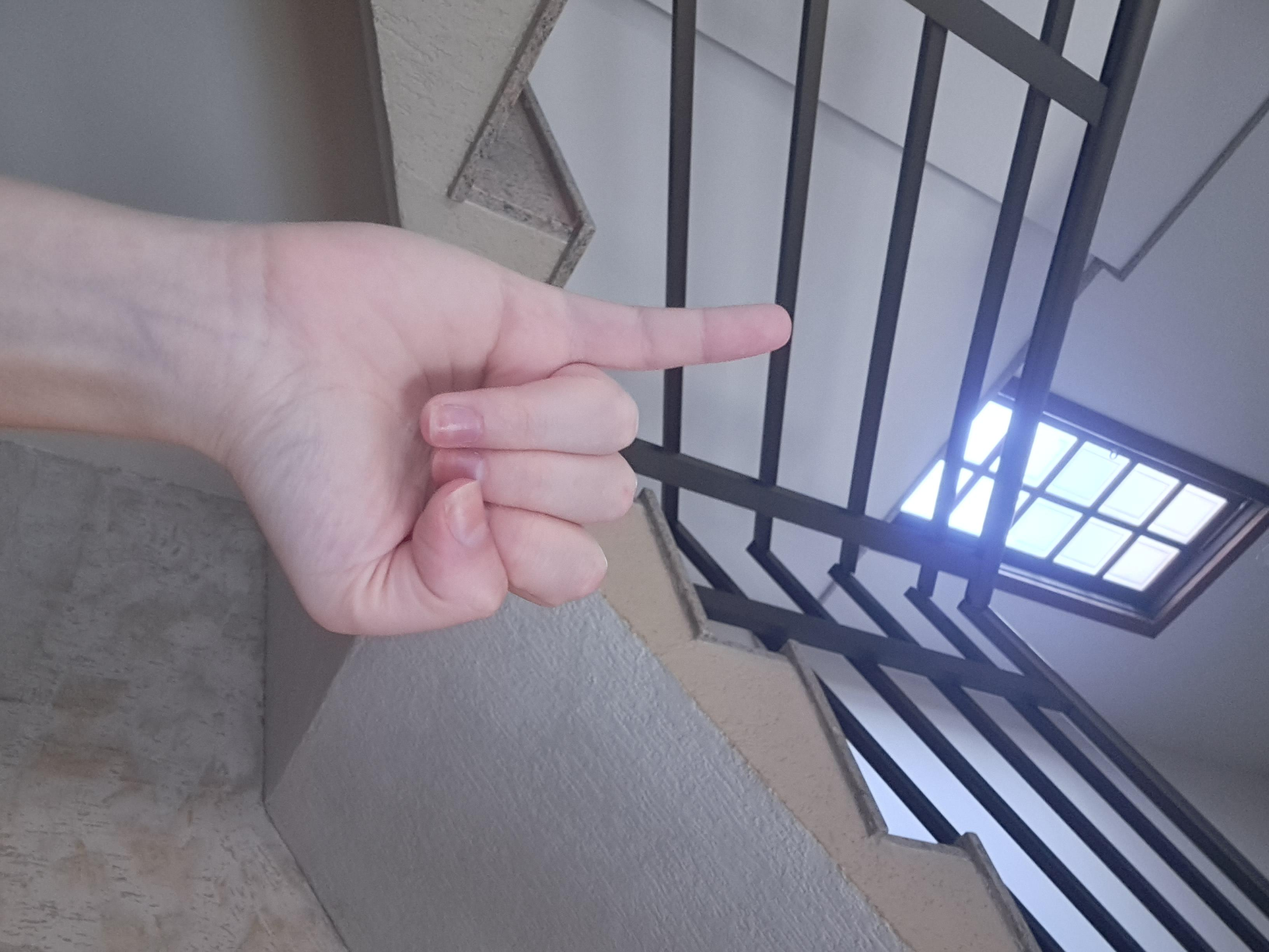I: (280, 356, 866, 805)
